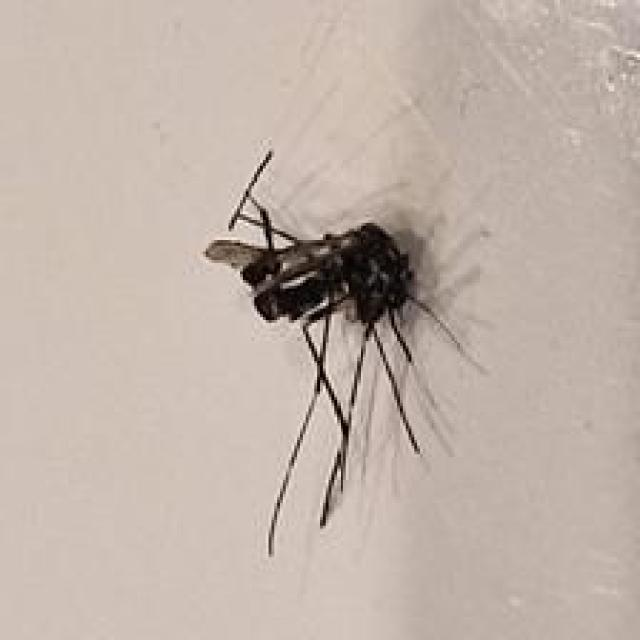Aedes albopictus: (201, 147, 490, 556)
